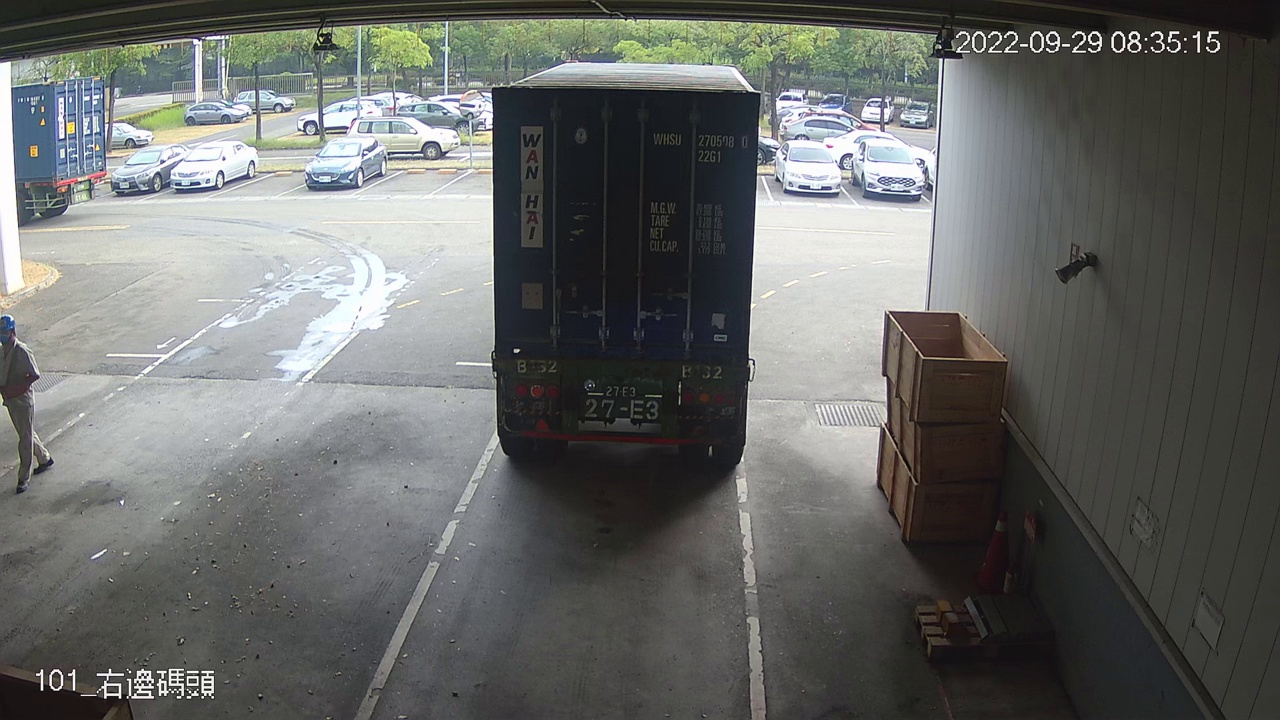container: (647, 125, 753, 169)
